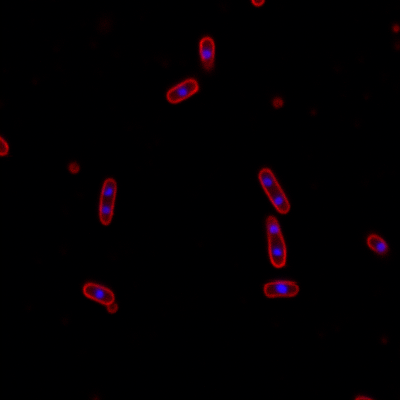CAM: (256, 168, 292, 214), (163, 77, 199, 108), (97, 176, 118, 225), (81, 280, 116, 306), (261, 278, 301, 299)
Oblique: (264, 214, 292, 269), (196, 35, 216, 71), (364, 232, 390, 256)
Vesicle: (269, 94, 285, 110), (66, 159, 82, 175), (389, 22, 400, 35)
